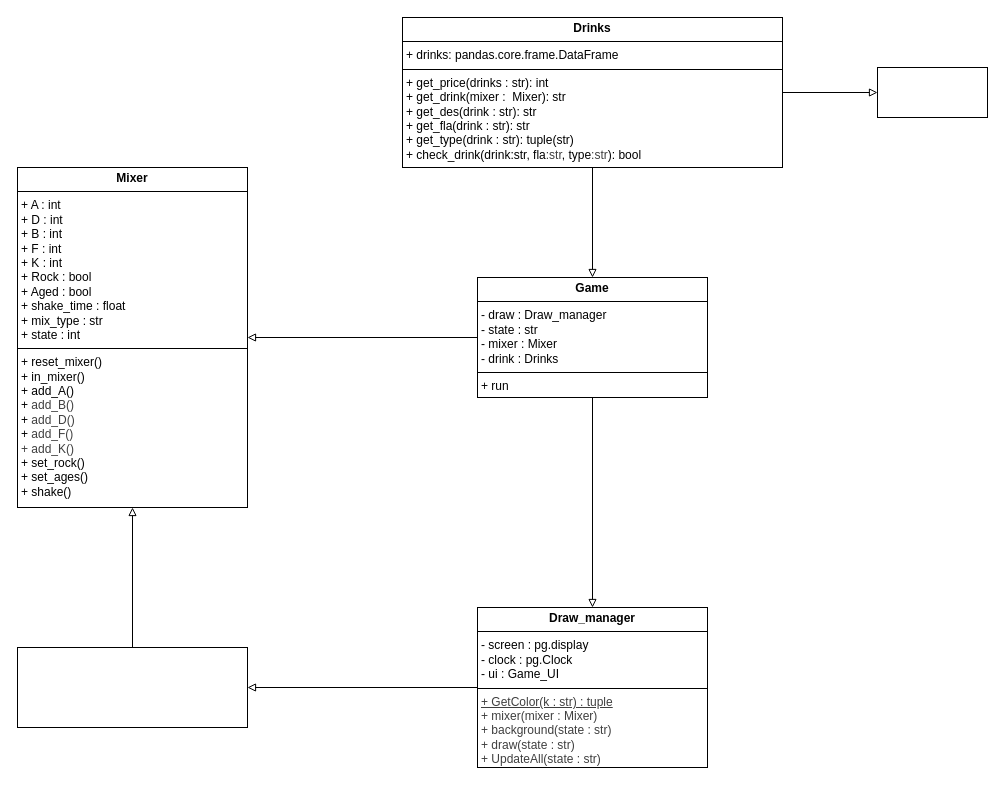
Some shapes in this 1005 by 785 pixel diagram are drawn without their labels. The box of each missing label's shape, as (x1, y1, x2, y2) in pixels:
Game_UI + rect_list : list + draw_mixer(): (16, 646, 248, 728)
Pandas: (876, 66, 988, 118)
